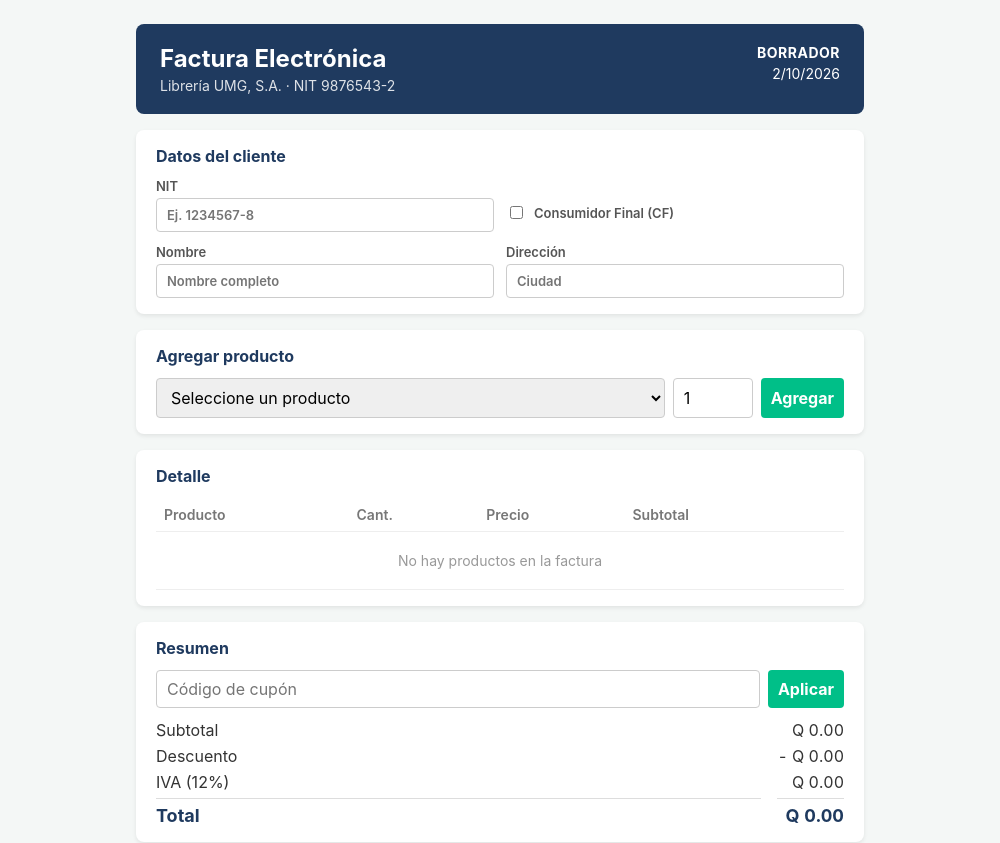
Test: Factura Electrónica - Pruebas E2E › Ejercicio 4: Agregar productos y calcular totales › suma la cantidad si se agrega el mismo producto dos veces
Select "Lapicero azul - Q 3.50" in the dropdown with test id "producto-select" at point(411, 398), box x1=156 y1=378 x2=665 y2=418
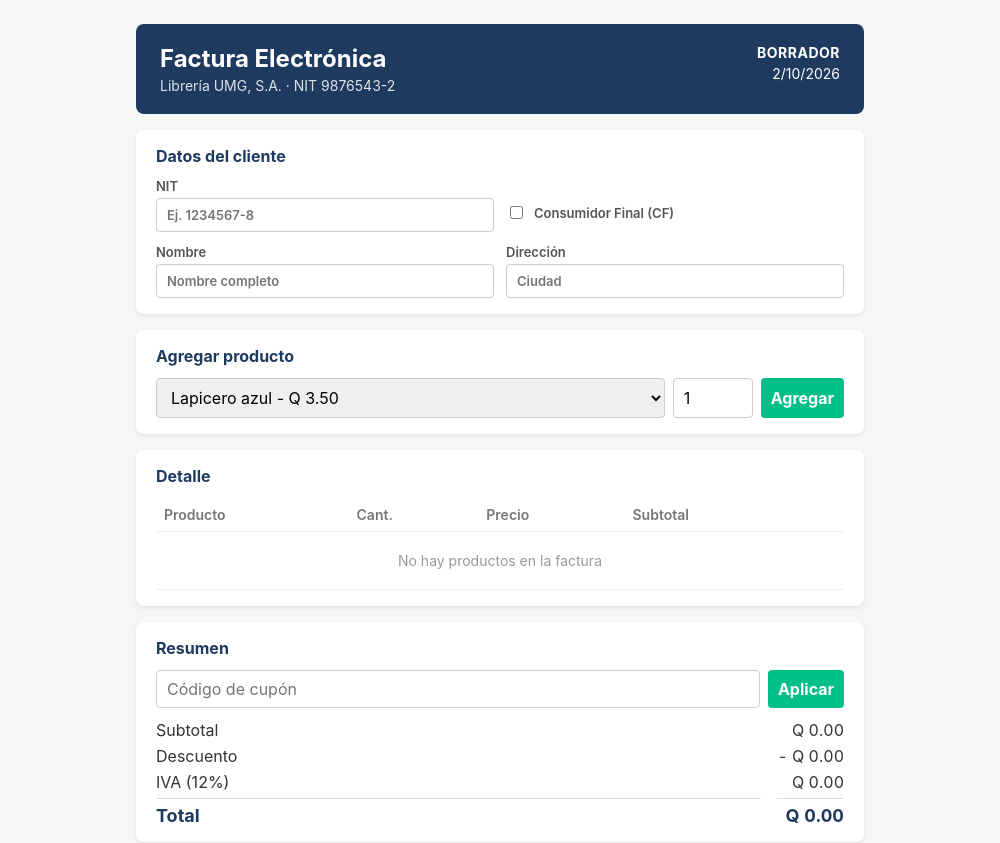
Replace the text in the number field with test id "producto-cantidad" with "2" at point(713, 398), box x1=673 y1=378 x2=753 y2=418
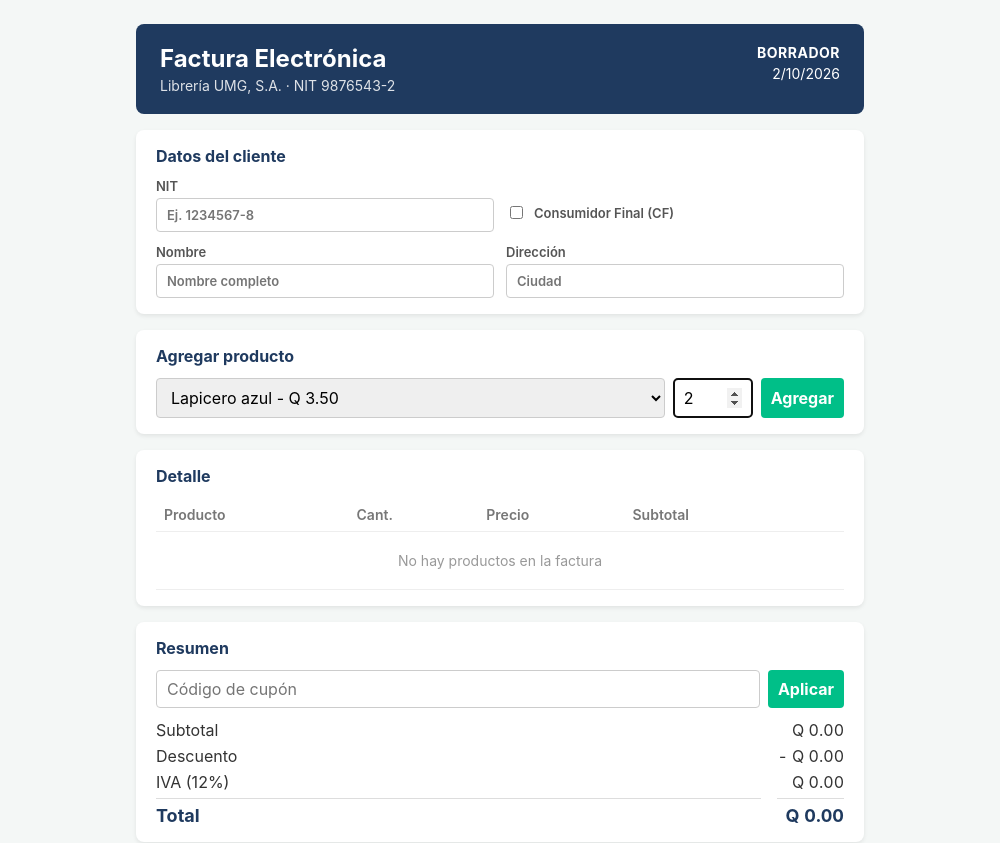
Click the button with test id "btn-agregar" at point(803, 398), box x1=761 y1=378 x2=844 y2=418
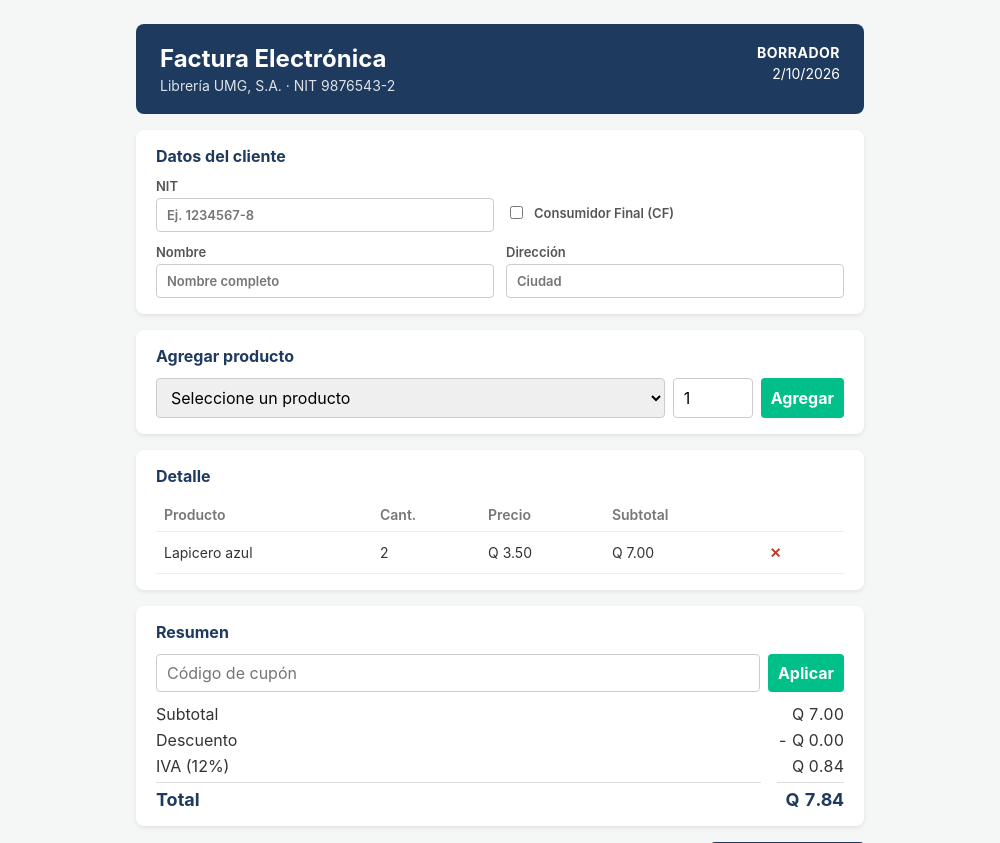
Select "Lapicero azul - Q 3.50" in the dropdown with test id "producto-select" at point(411, 398), box x1=156 y1=378 x2=665 y2=418
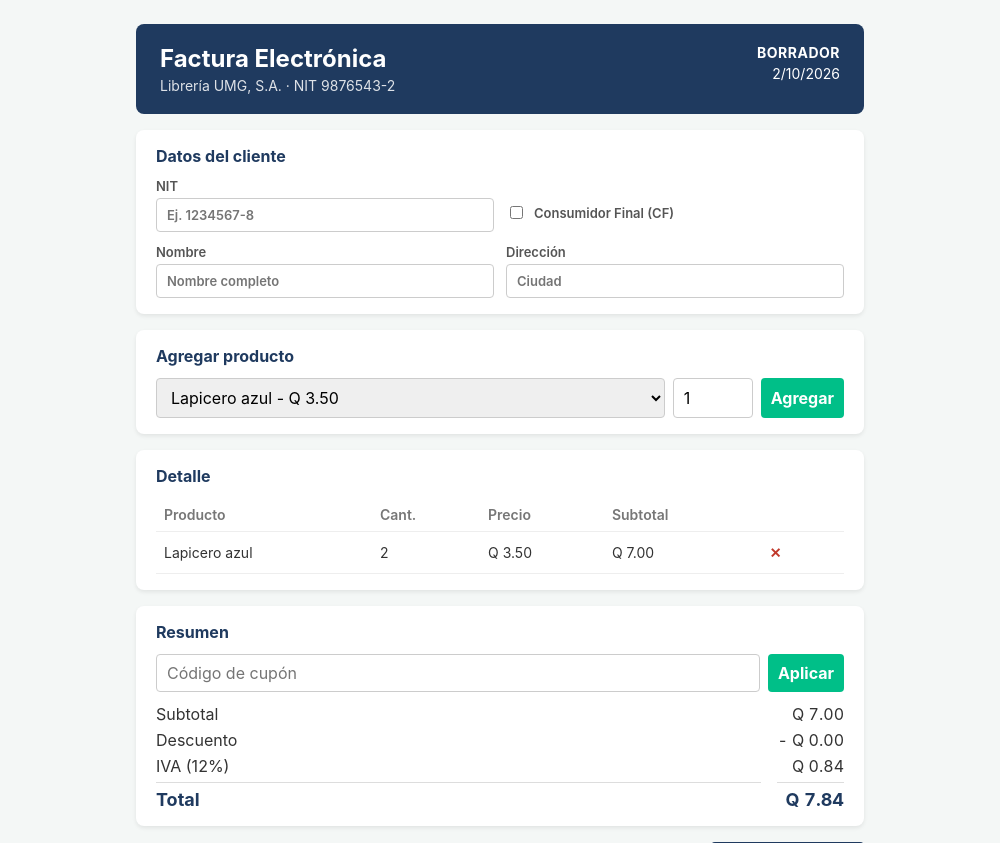
Replace the text in the number field with test id "producto-cantidad" with "3" at point(713, 398), box x1=673 y1=378 x2=753 y2=418
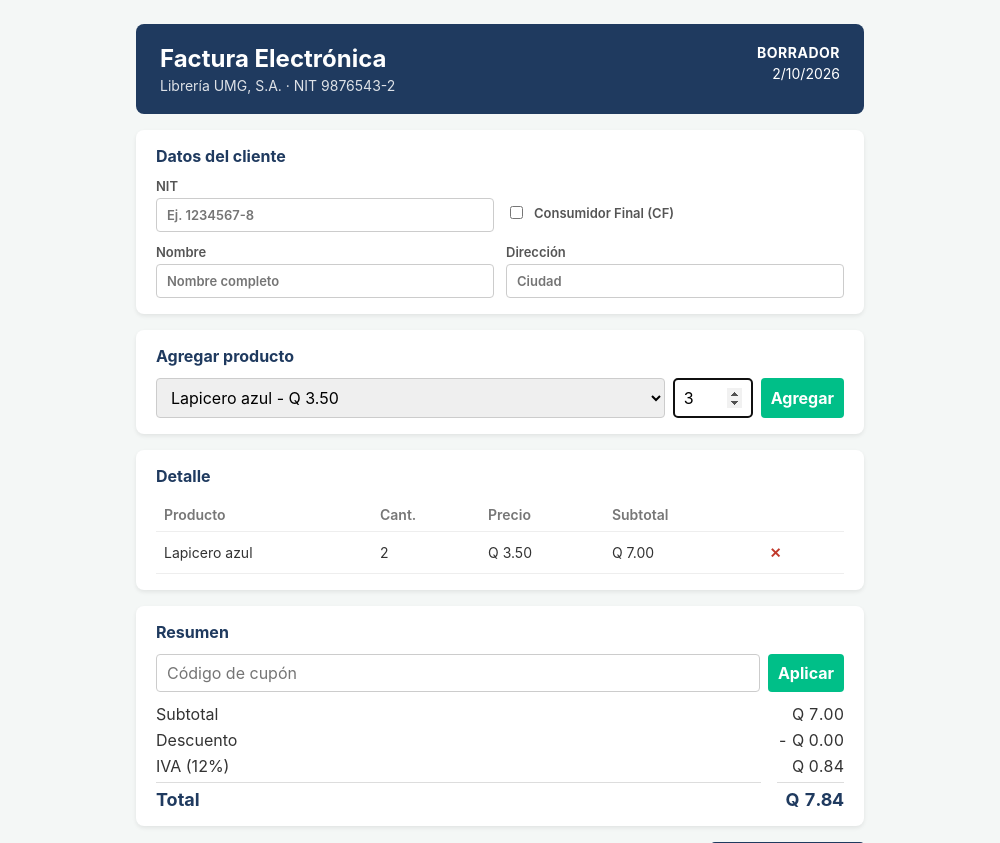
Click the button with test id "btn-agregar" at point(803, 398), box x1=761 y1=378 x2=844 y2=418
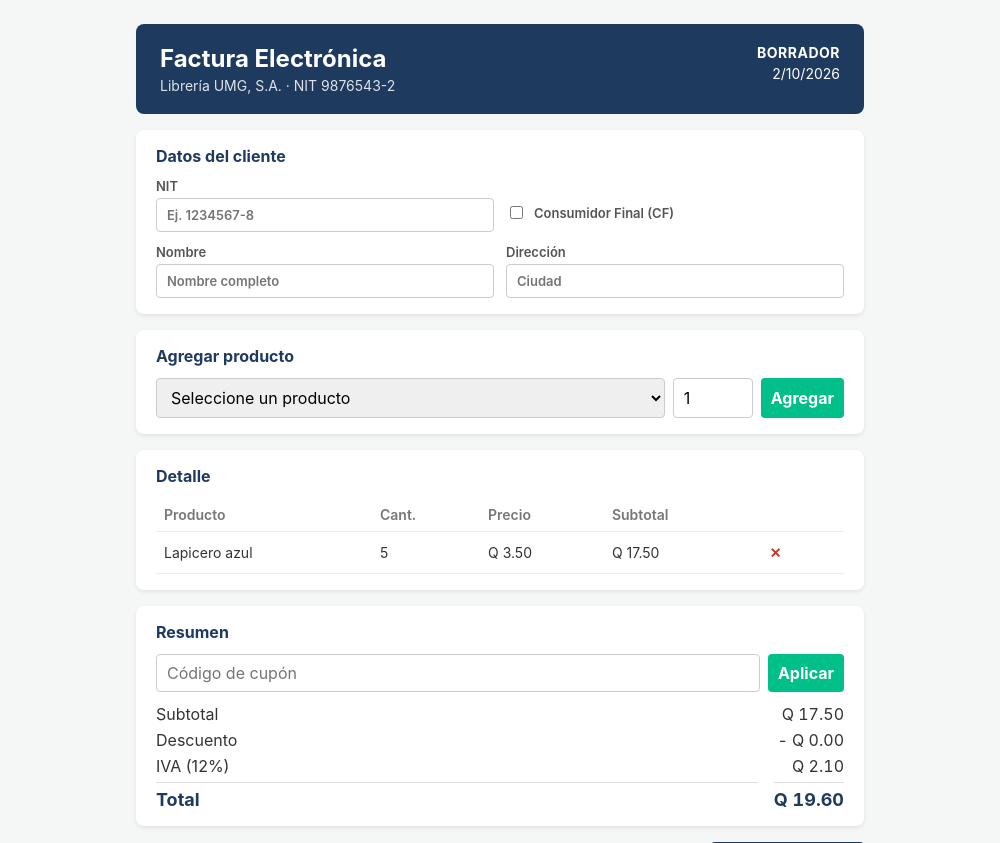
Result: the number of rows with test id "fila-item" is 1 at x1=156 y1=532 x2=844 y2=574
Result: the cell with test id "item-cantidad" reads "5" at x1=372 y1=532 x2=480 y2=574
Result: the cell with test id "item-subtotal" reads "Q 17.50" at x1=604 y1=532 x2=754 y2=574
